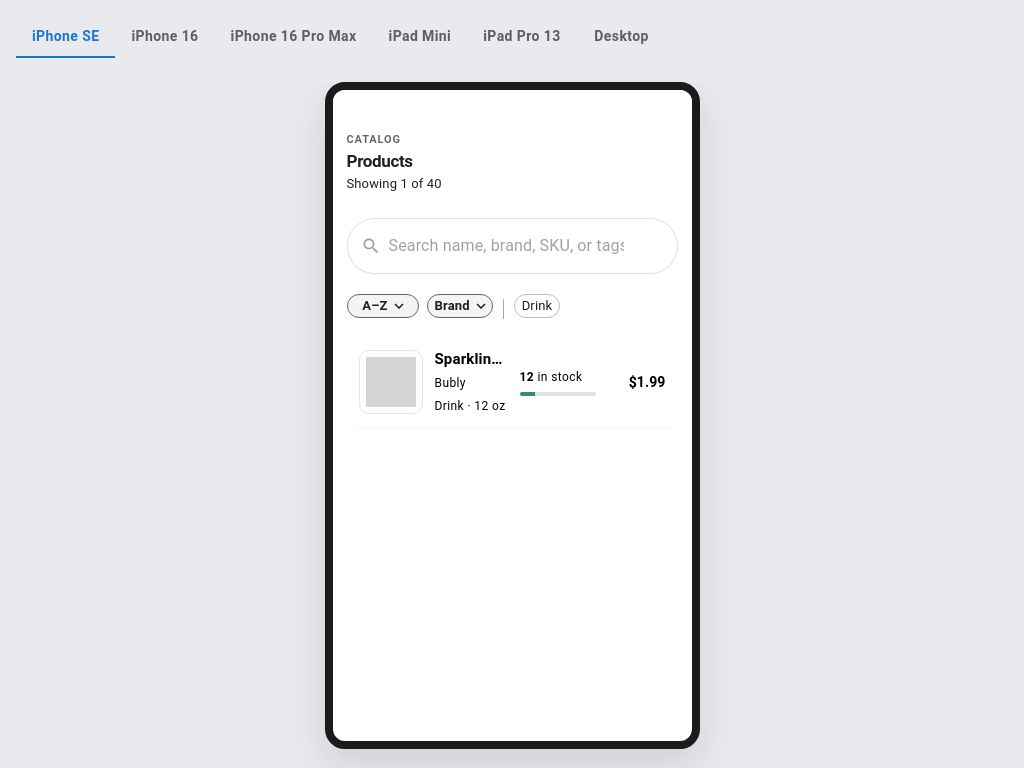
CatalogMock › refreshes inspect from the live SKU after opening the list row
Expected: the text "Sparkling Water" is shown, 434,348 -> 508,370
Click the button "Sparkling Water Bubly Drink · 12 oz 12 in stock $1.99". click: click(390, 382)
box: 346,338 -> 678,427
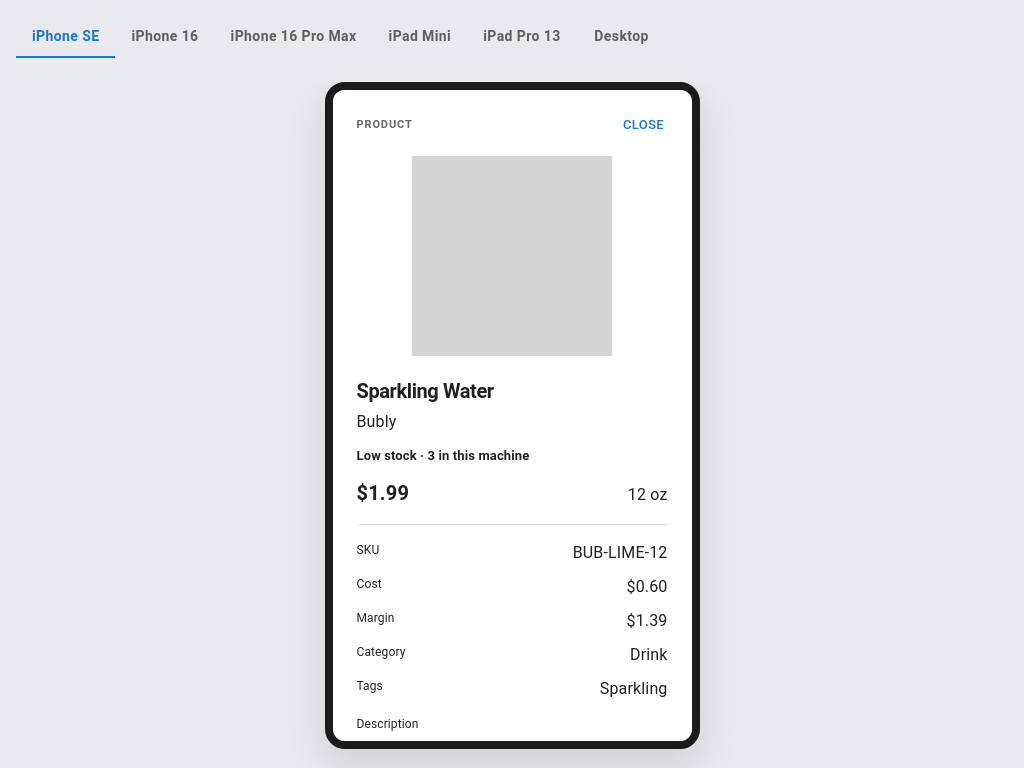
Expected: the text "Low stock · 3 in this machine" is shown, 356,448 -> 529,463
